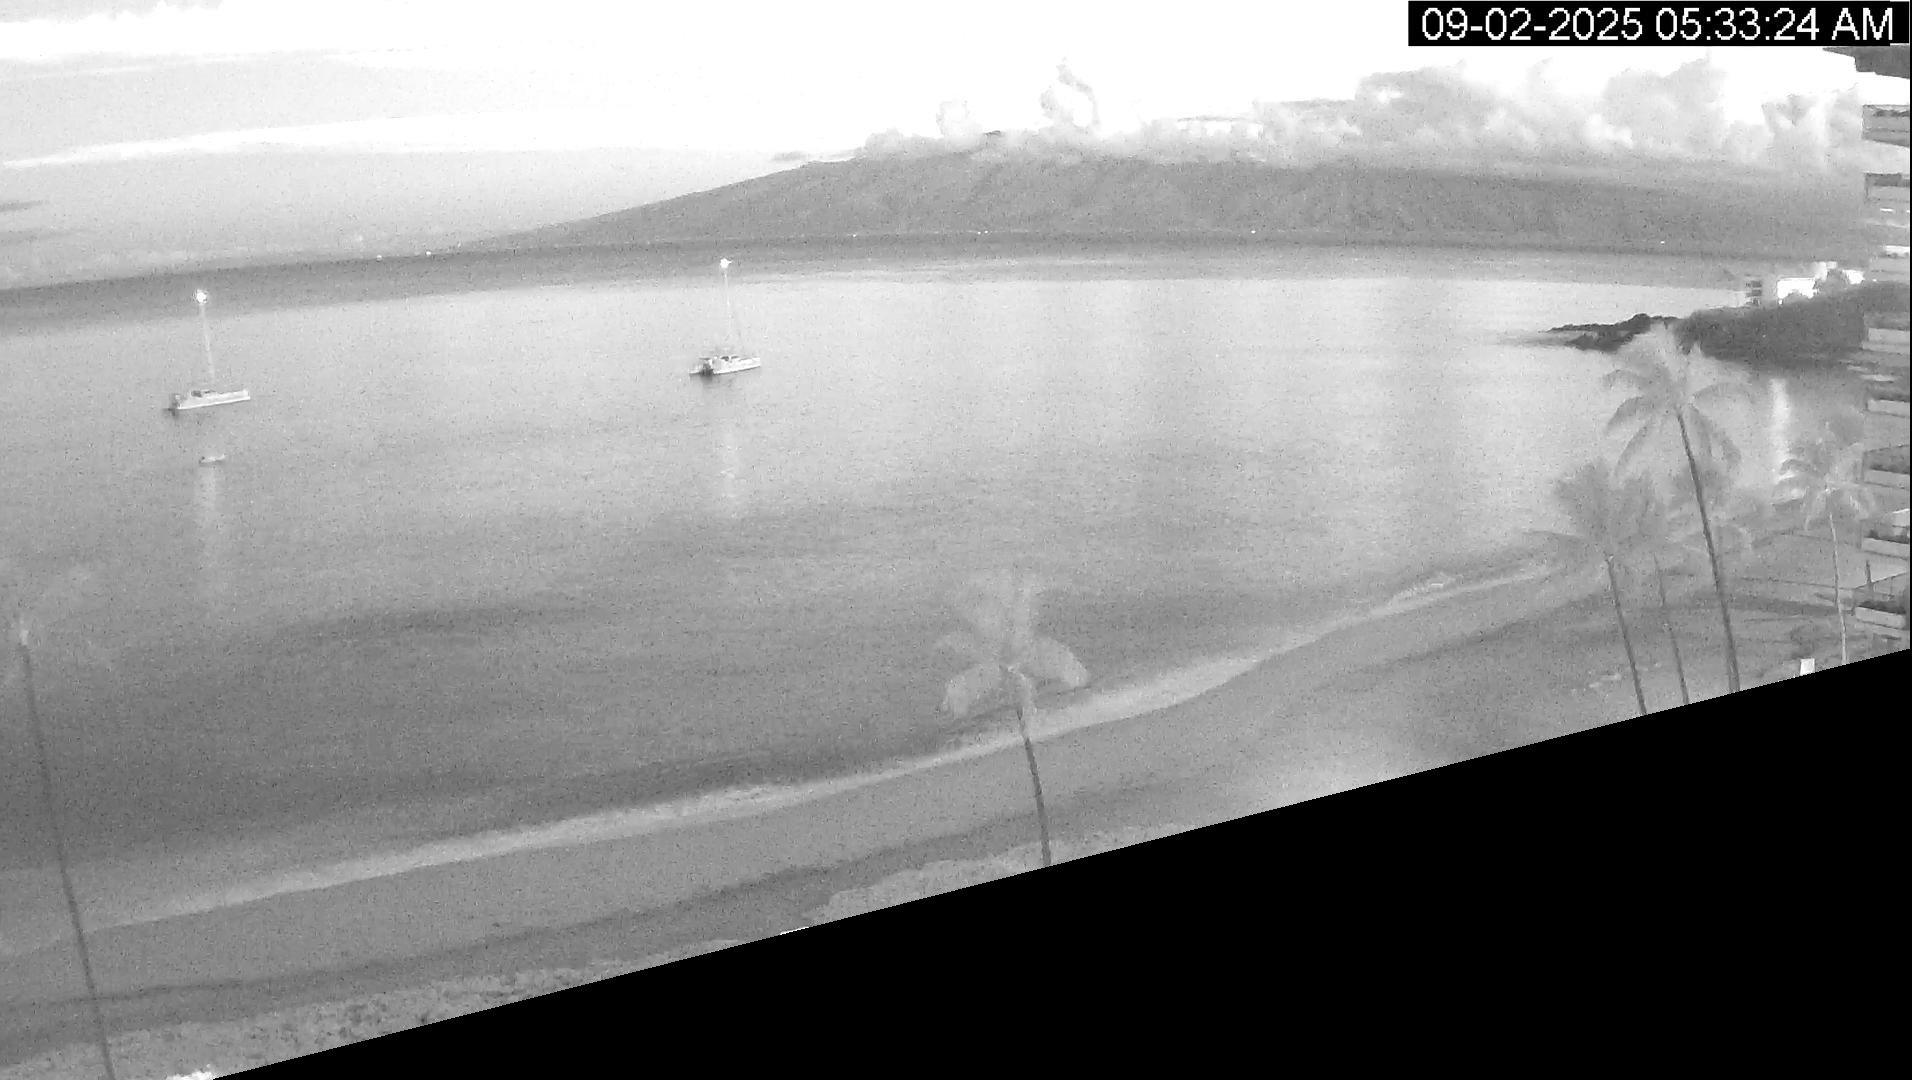boat: (169, 290, 250, 413), (688, 256, 762, 377), (688, 355, 762, 376), (200, 452, 227, 464)
